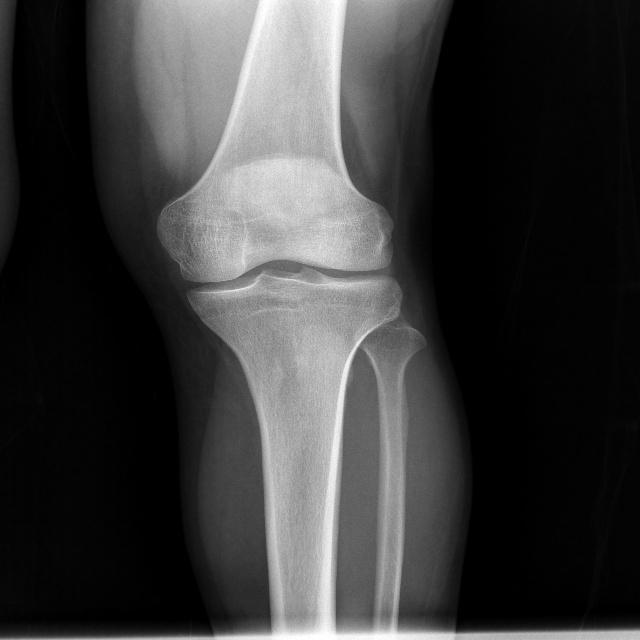Knee: (151, 198, 402, 356)
